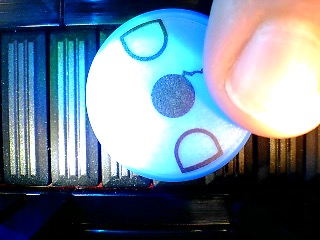CRACK: (86, 8, 257, 183)
